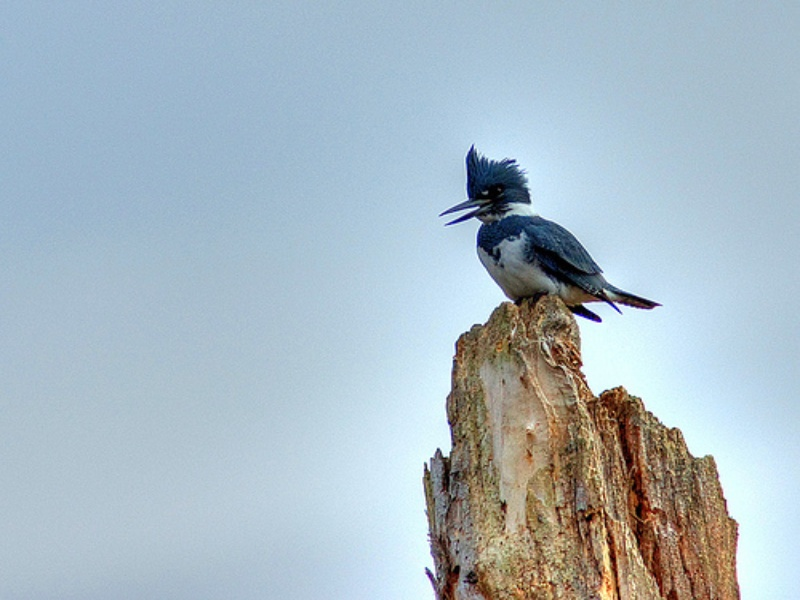kingfisher: (434, 146, 663, 330)
